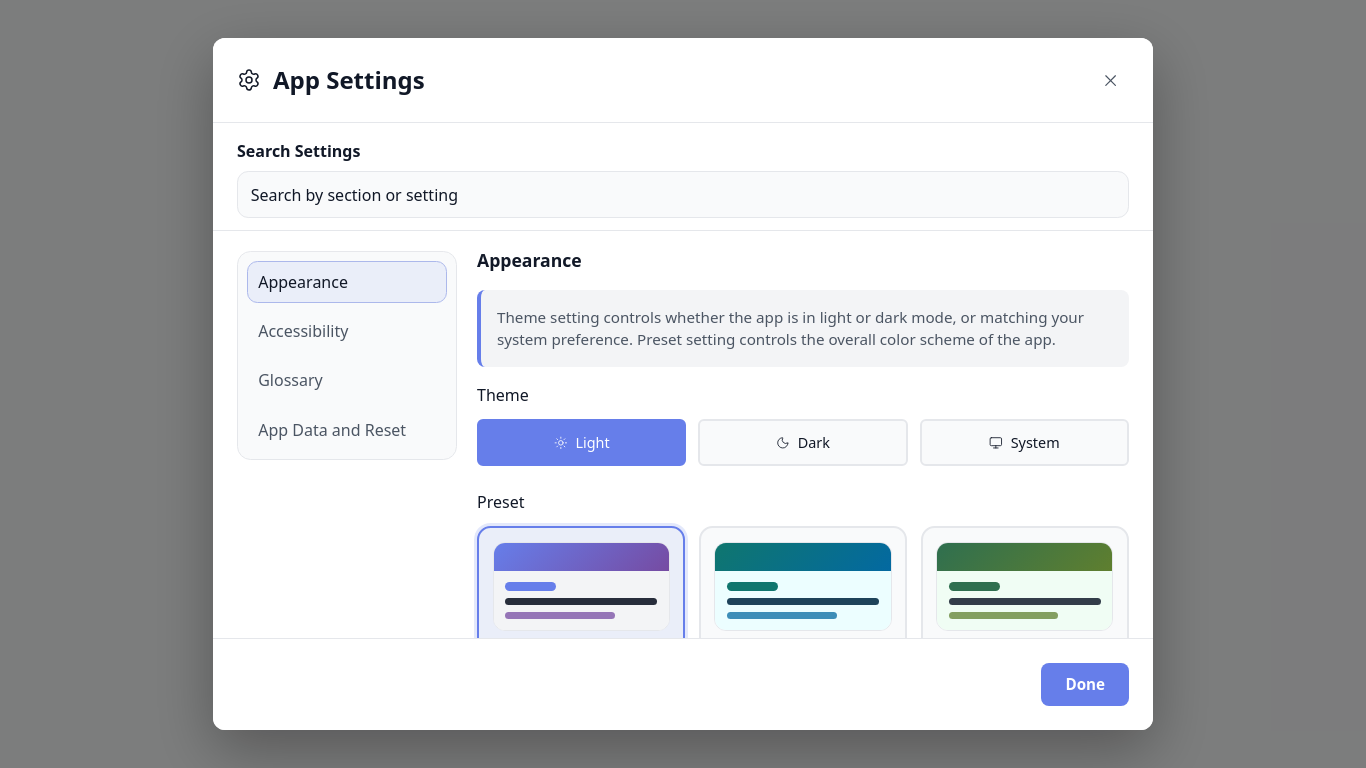
SettingsModal › shows an empty state when no settings sections match search
Type "zebra" into the search field labelled "Search Settings" at (683, 195), box [237,171,1129,218]
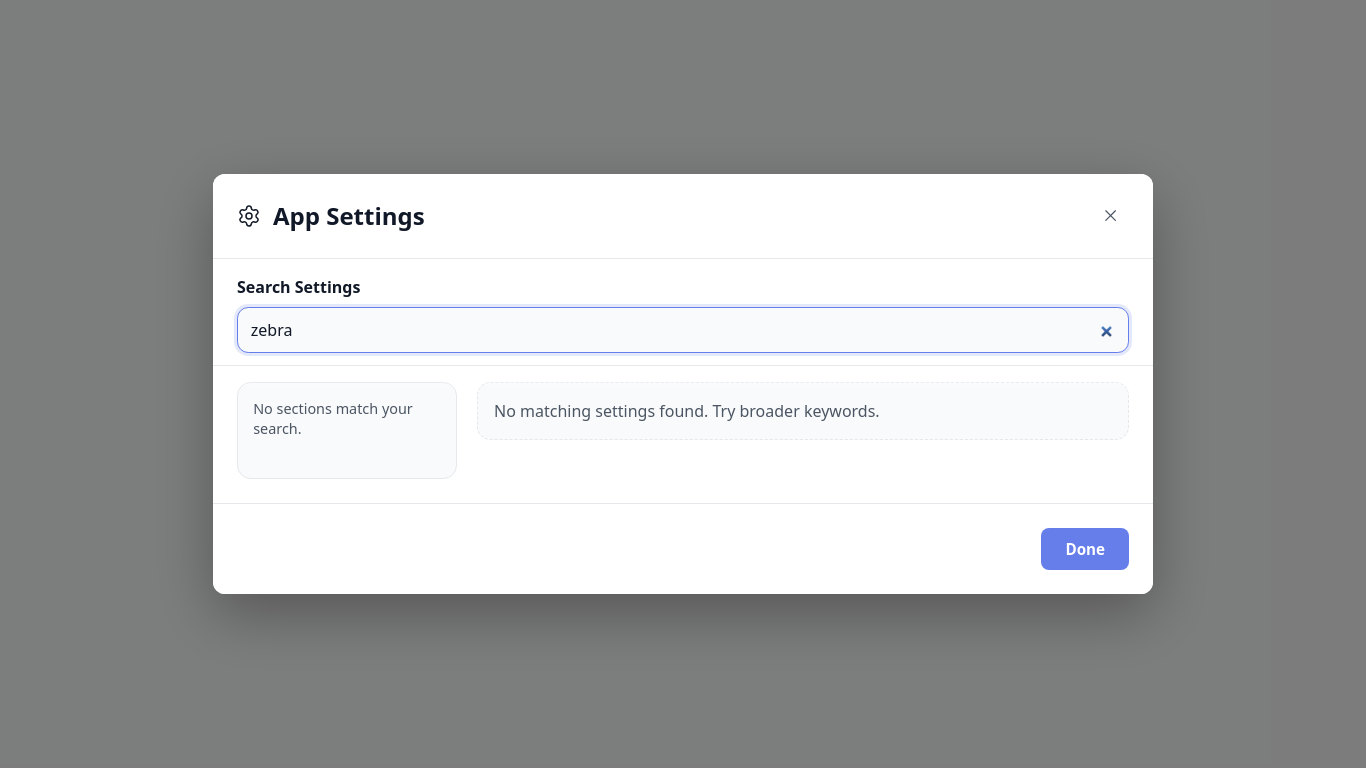
Now the text "No sections match your search." is shown, box [253,399,413,438]
Now the message reads "No matching settings found. Try broader keywords.", box [494,400,880,422]
